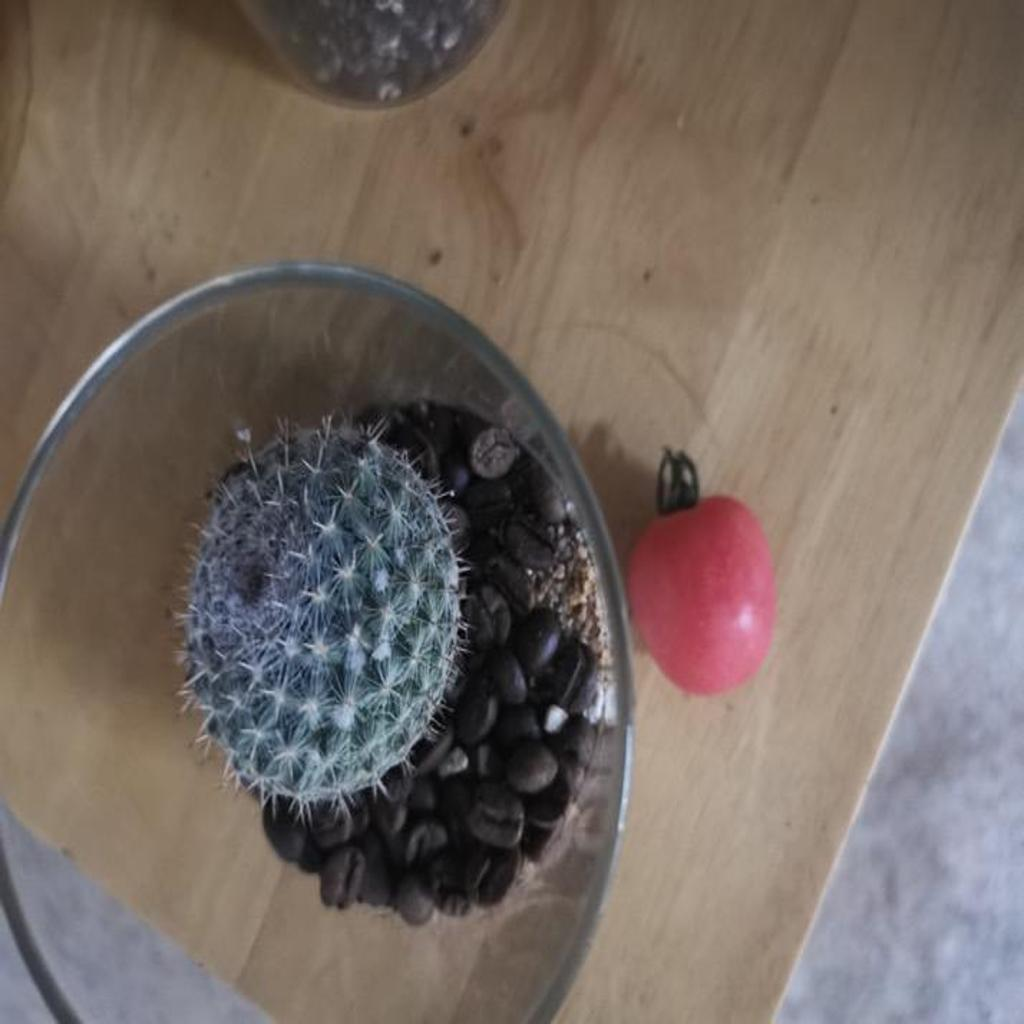tomato: (624, 483, 770, 706)
